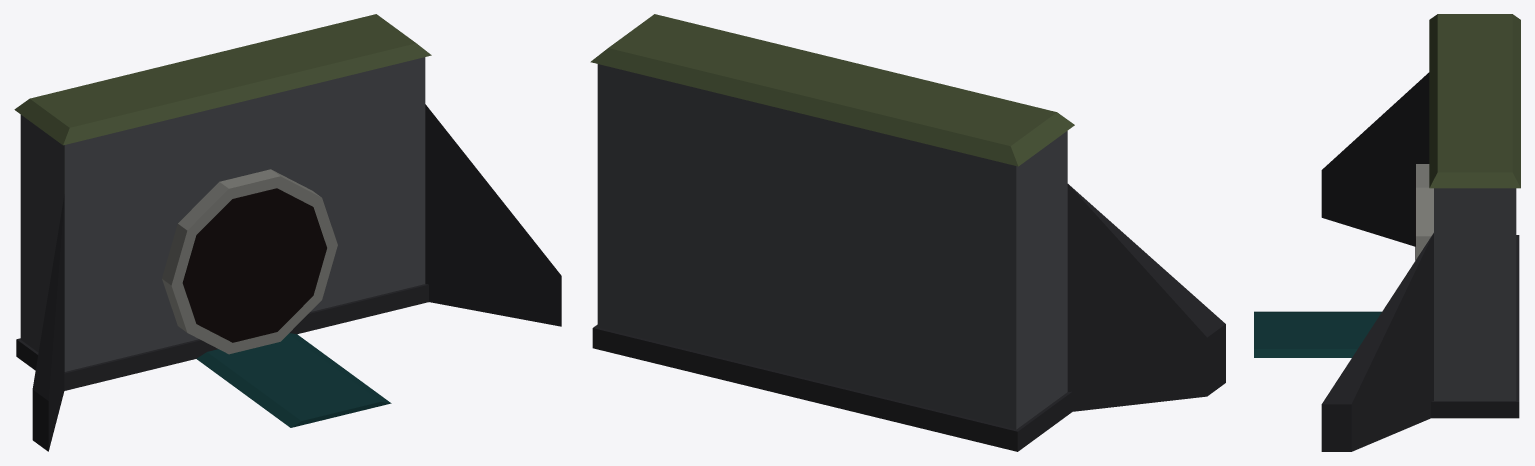
File: hushwood_culvert.glb
The picture shows the model from 3 angles, left to right: view 1: azimuth 30°, elevation 25°; view 2: azimuth 150°, elevation 25°; view 3: azimuth 270°, elevation 25°; orthographic projection. The views are drawn at different scales.
Visible parts, largest first — view 1: hushwood_culvert; view 2: hushwood_culvert; view 3: hushwood_culvert.
Boxes of the visible parts, x1,y1,x2,y2 form: hushwood_culvert: (14,14,561,451); hushwood_culvert: (590,14,1225,451); hushwood_culvert: (1254,14,1520,451).
Size of the model in its own units: 3.7 by 1.78 by 1.78.
